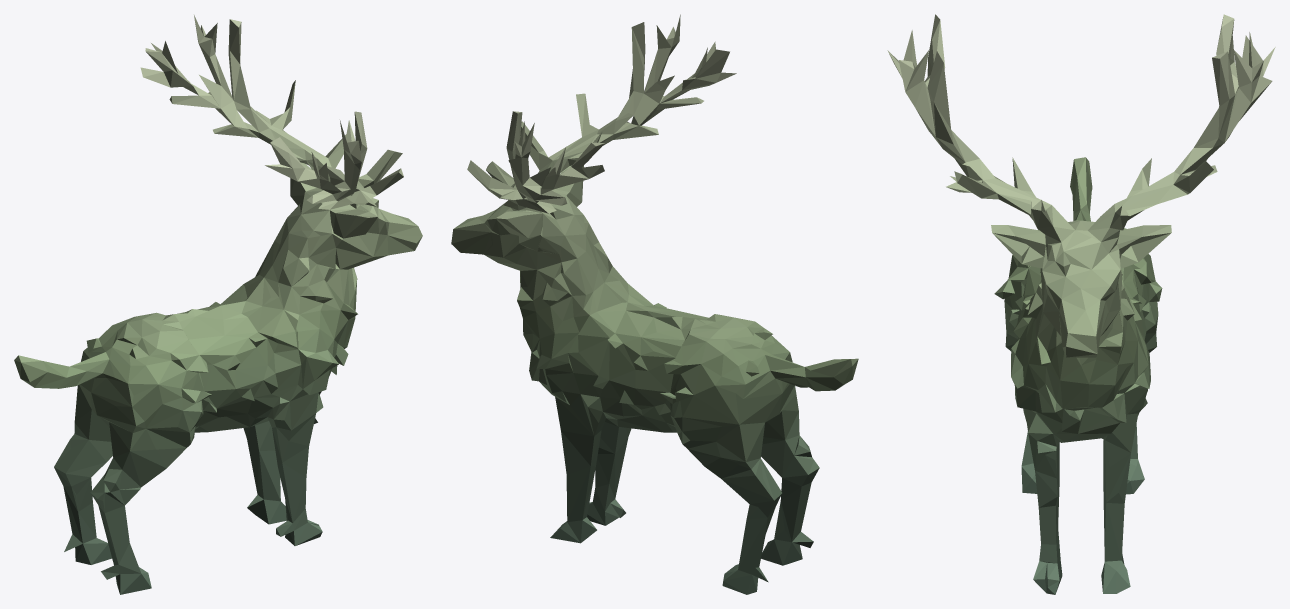
The model's file is m-bosque-guardian.glb.
3 renders of one model, left to right at view 1: azimuth 30°, elevation 25°; view 2: azimuth 150°, elevation 25°; view 3: azimuth 270°, elevation 25°, orthographic. The views are drawn at different scales.
Size of the model in its own units: 1.69 by 1.9 by 1.23.
